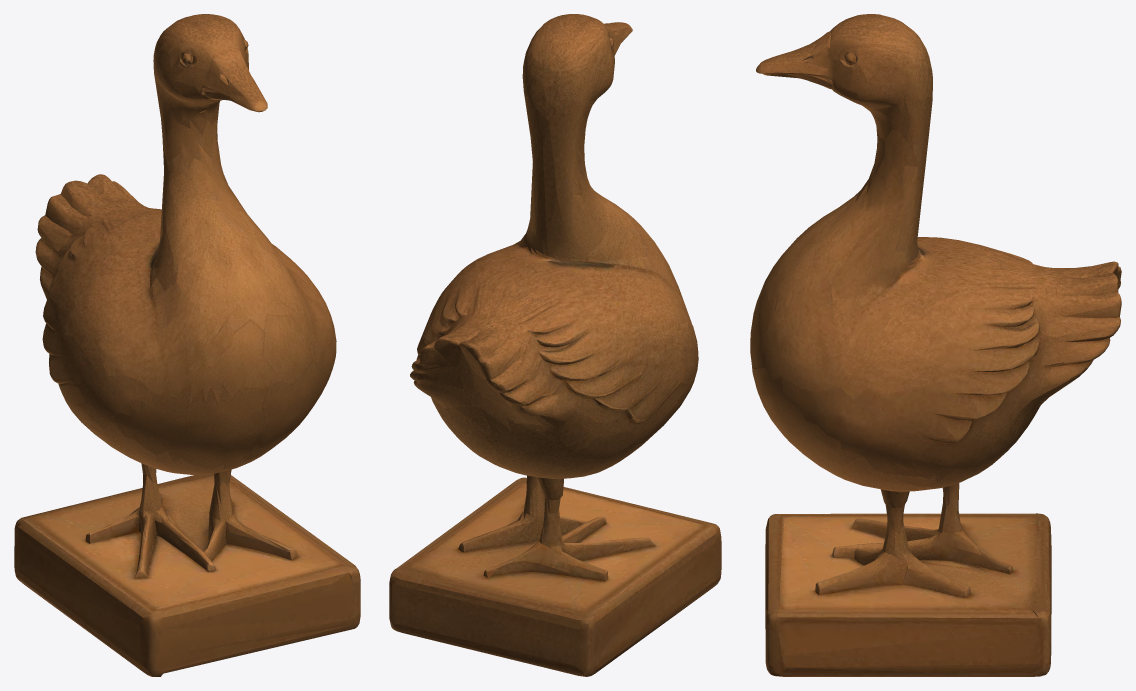
Rendered from goose.glb.
The picture shows the model from 3 angles, left to right: view 1: azimuth 30°, elevation 25°; view 2: azimuth 150°, elevation 25°; view 3: azimuth 270°, elevation 25°; orthographic projection. The views are drawn at different scales.
Visible parts, largest first — view 1: mesh_node; view 2: mesh_node; view 3: mesh_node.
Boxes of the visible parts, left/top/right/bottom form: mesh_node: left=14, top=14, right=360, bottom=676; mesh_node: left=389, top=14, right=721, bottom=676; mesh_node: left=750, top=14, right=1121, bottom=676.
Size of the model in its own units: 0.8025 by 1.9 by 1.05.
1 material, 1 textured.
